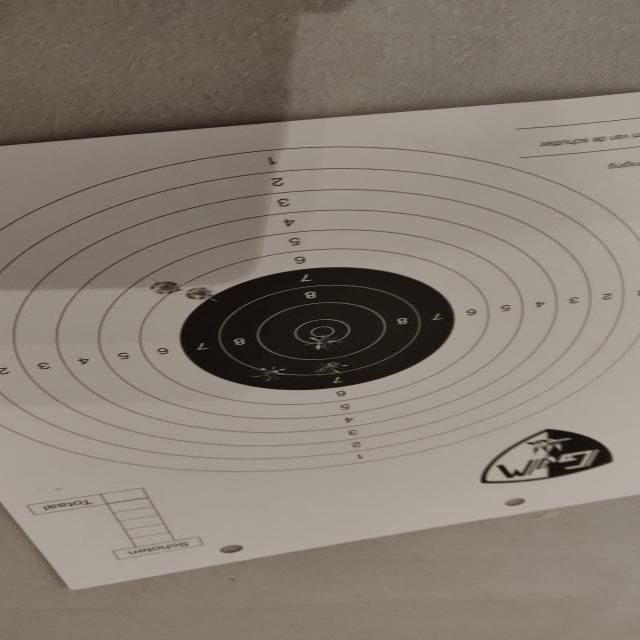10: (305, 335, 346, 351)
6: (149, 280, 184, 296)
7: (184, 287, 219, 302)
8: (249, 366, 292, 382), (312, 362, 350, 376)
Target: (0, 146, 640, 474)
black_contour: (176, 267, 454, 391)
